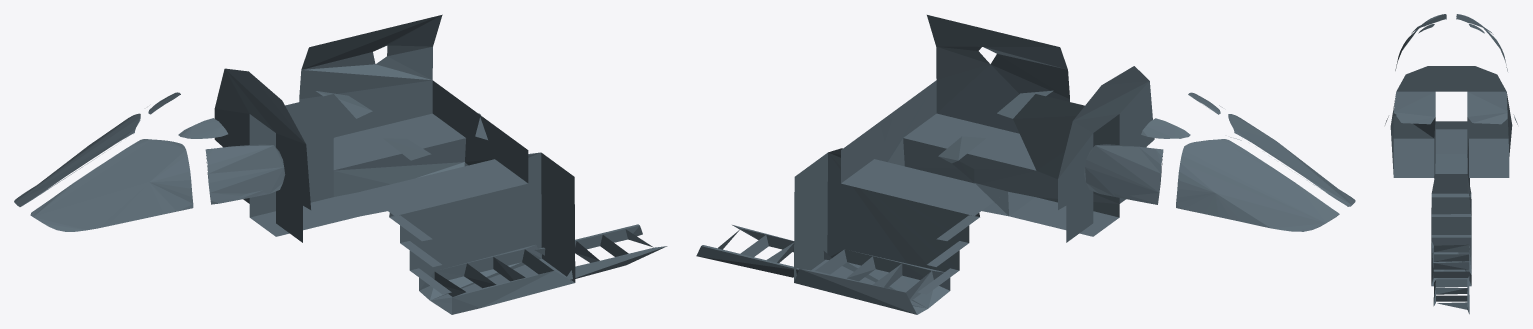
File: b1.glass.glb
3 views of the same model, side by side, from view 1: azimuth 30°, elevation 25°; view 2: azimuth 150°, elevation 25°; view 3: azimuth 270°, elevation 25° (orthographic). The views are drawn at different scales.
Visible parts, largest first — view 1: glass; view 2: glass; view 3: glass.
Part boxes in pixels (bbox=[...]): glass: bbox=[14, 14, 667, 314]; glass: bbox=[696, 15, 1355, 314]; glass: bbox=[1385, 14, 1517, 314].
Size of the model in its own units: 7.62 by 3.1 by 2.32.
